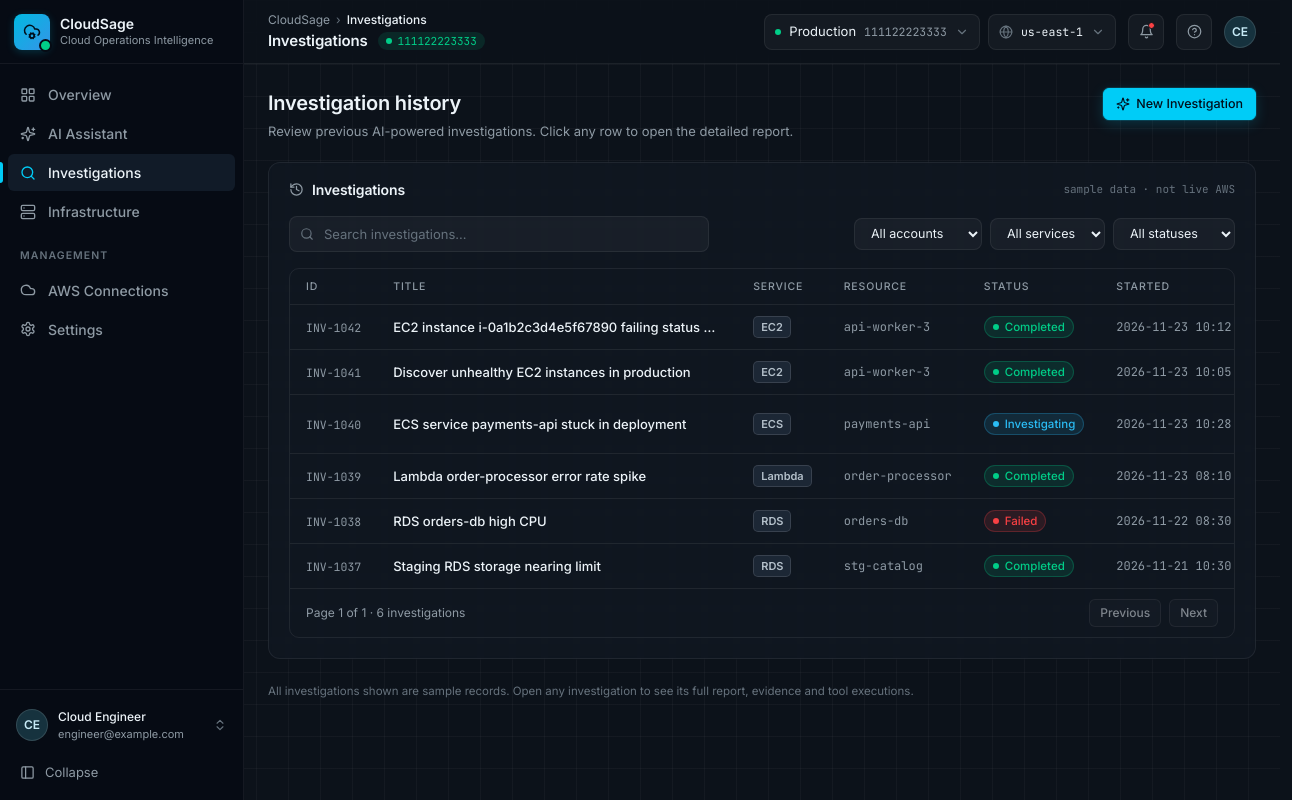
pages › history filters by search text
The image size is (1292, 800).
Expected: the text "Lambda order-processor error rate spike" is shown, left=393, top=468, right=646, bottom=484
Type "payments" into the field labelled "Search investigations".
click(499, 234); type("payments")  # box left=289, top=216, right=709, bottom=252
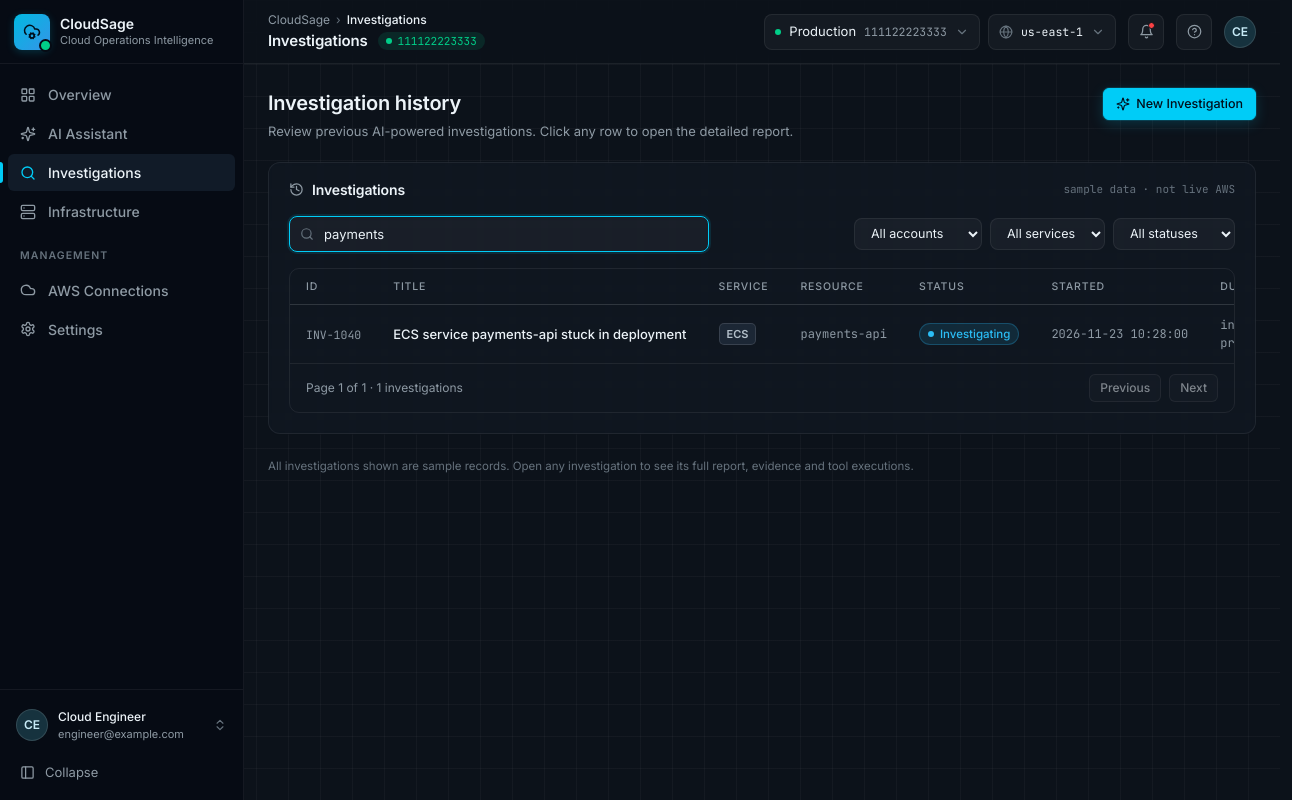
Expected: the text "ECS service payments-api stuck in deployment" is shown, left=393, top=324, right=686, bottom=344
Result: the text "Lambda order-processor" is gone
